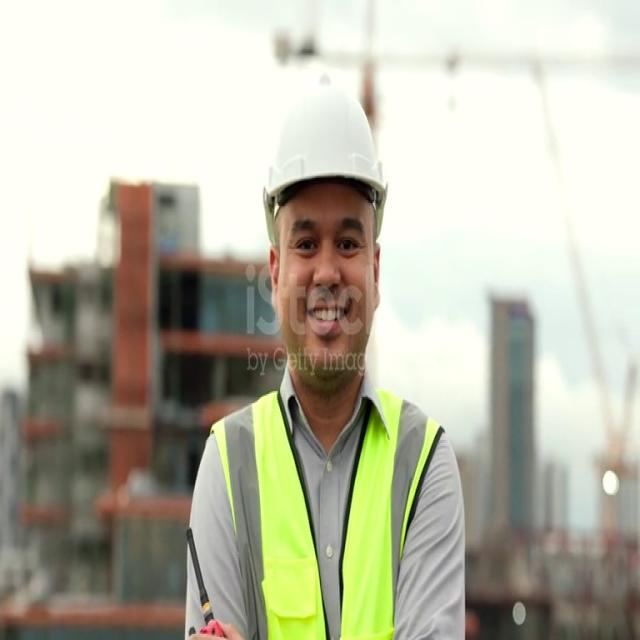capacete: (250, 68, 396, 250)
